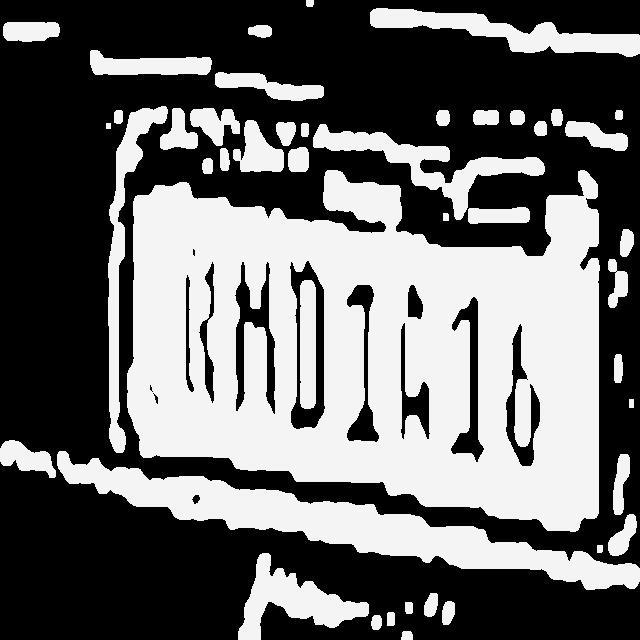1: (443, 292, 488, 464), (339, 277, 382, 445)
6: (500, 313, 544, 473)
a: (394, 280, 436, 448)
d: (284, 256, 330, 434)
h: (230, 254, 280, 422)
r: (178, 248, 222, 408)
